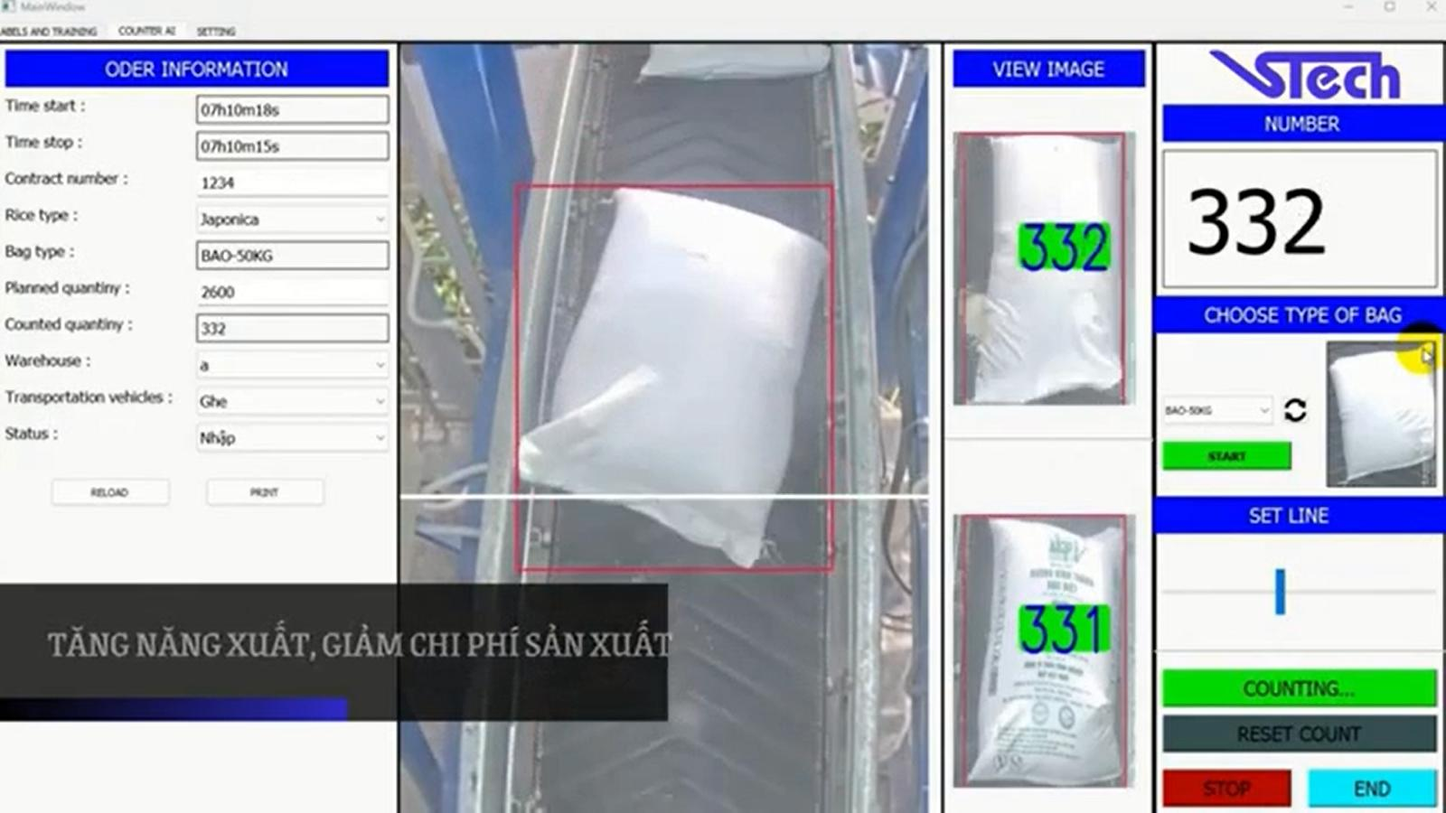rice-bag: (518, 188, 828, 566), (962, 515, 1128, 786), (966, 135, 1122, 404)
